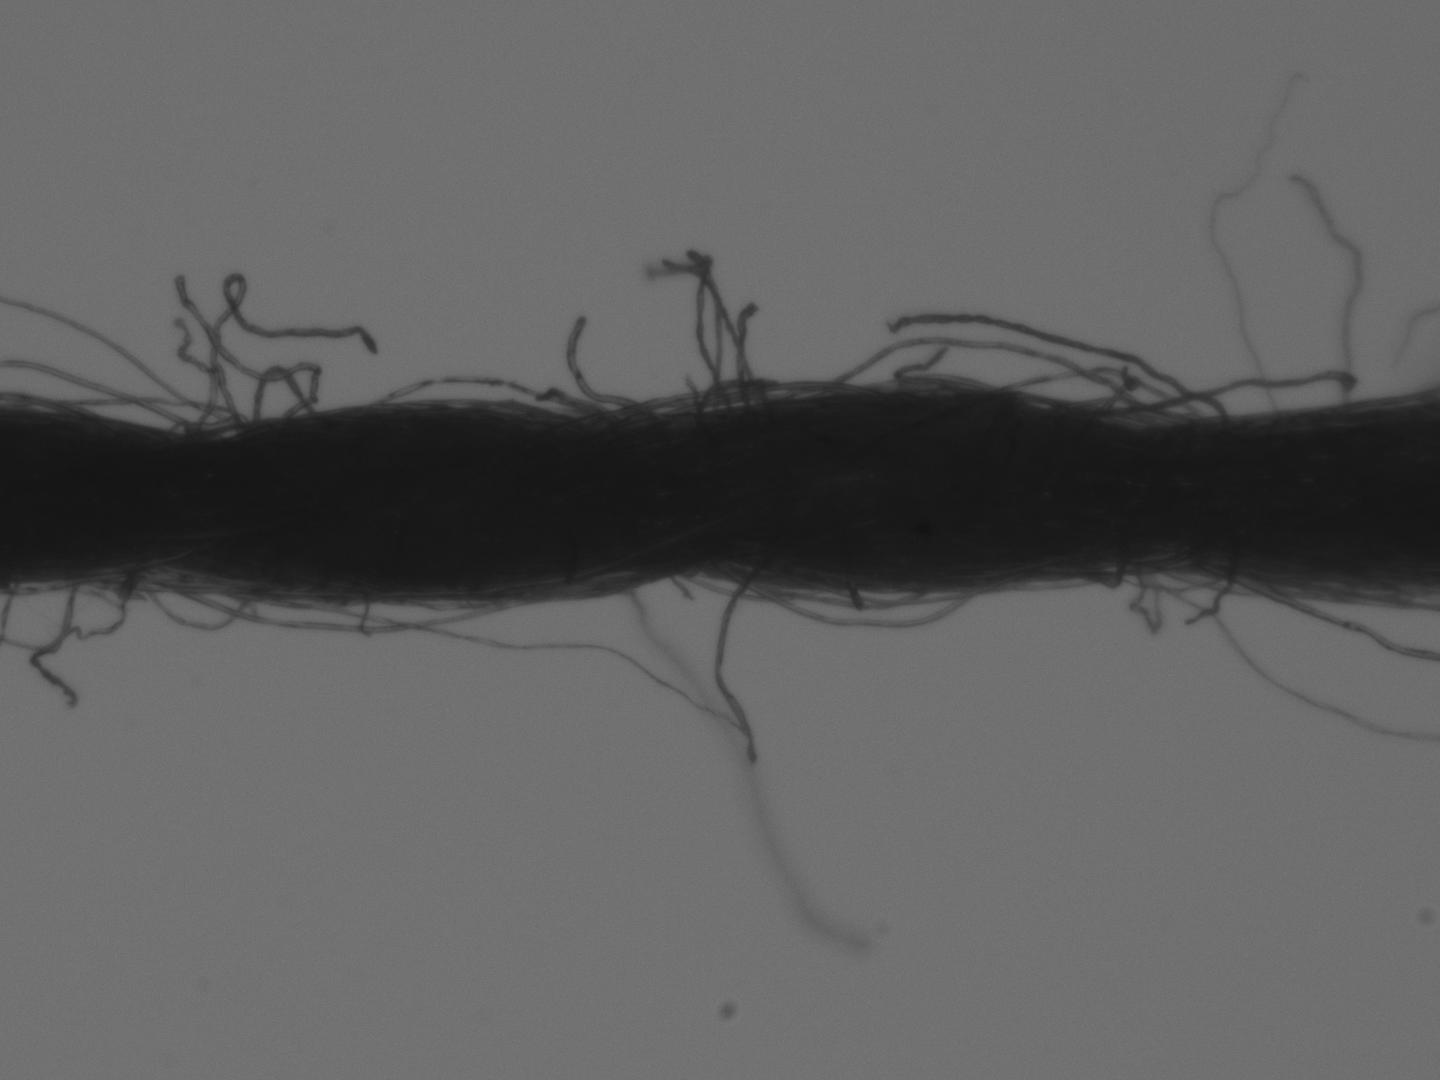loop_fiber: (696, 558, 986, 633), (355, 368, 618, 433), (139, 558, 261, 632), (688, 370, 865, 420), (53, 393, 245, 431), (243, 362, 337, 430), (1, 581, 82, 659), (1121, 550, 1169, 636), (5, 393, 94, 414)
protruding_fiber: (883, 305, 1243, 422), (709, 558, 766, 770)
